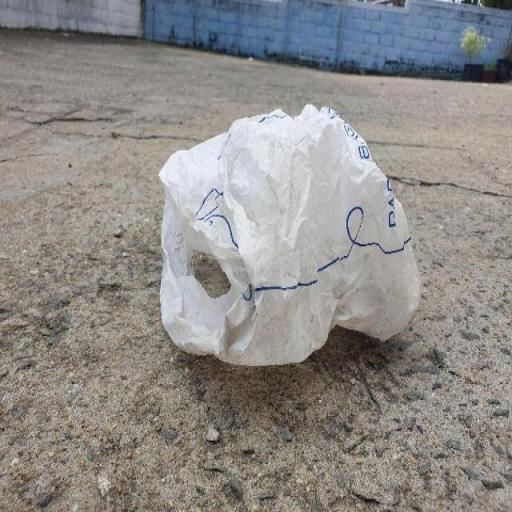plastic-bag: (158, 102, 426, 366)
